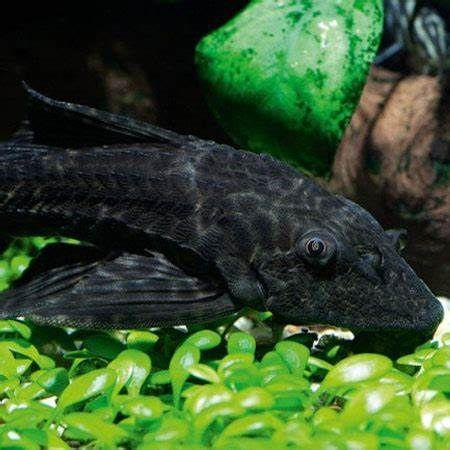Janitor Fish: (0, 69, 443, 364)
